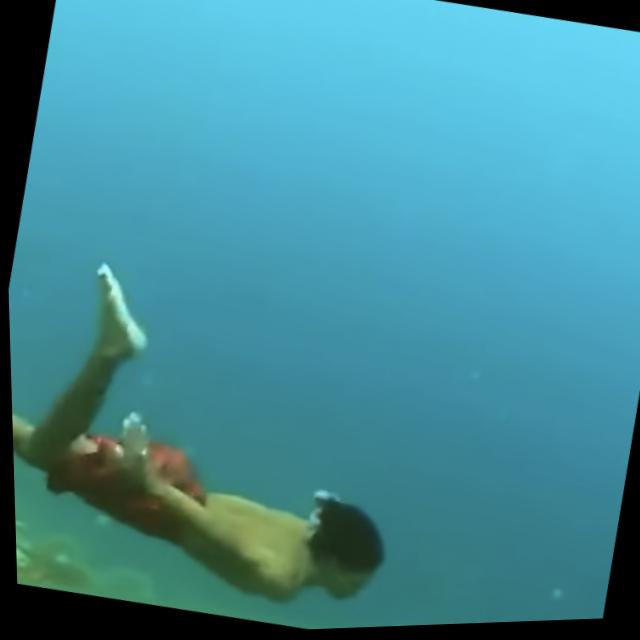human: (6, 231, 439, 640)
